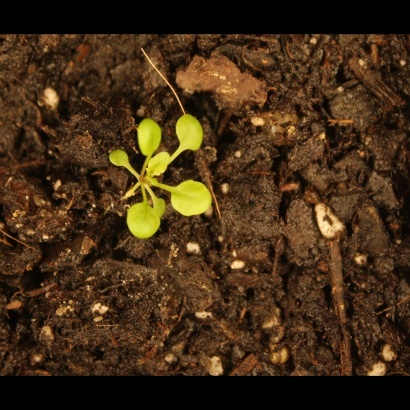leaf: (166, 177, 219, 217), (169, 111, 215, 154), (125, 201, 165, 245), (133, 118, 168, 161), (102, 141, 132, 170), (148, 147, 172, 180), (147, 198, 173, 224)
